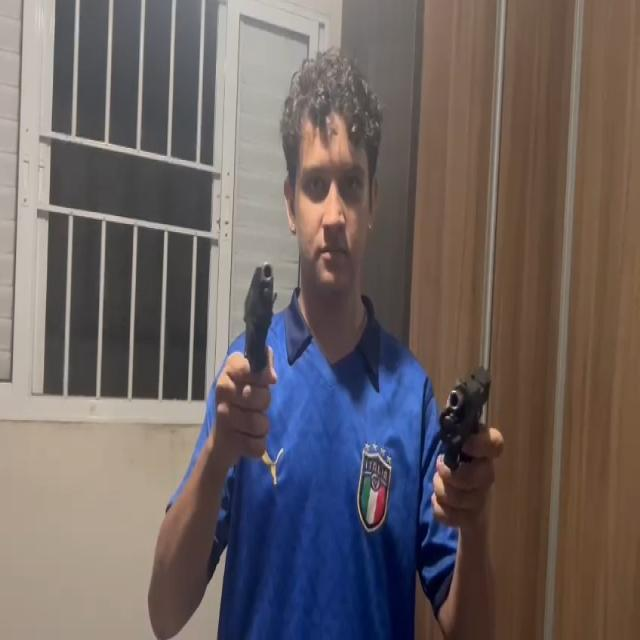gun: (438, 364, 494, 468), (243, 261, 277, 378)
